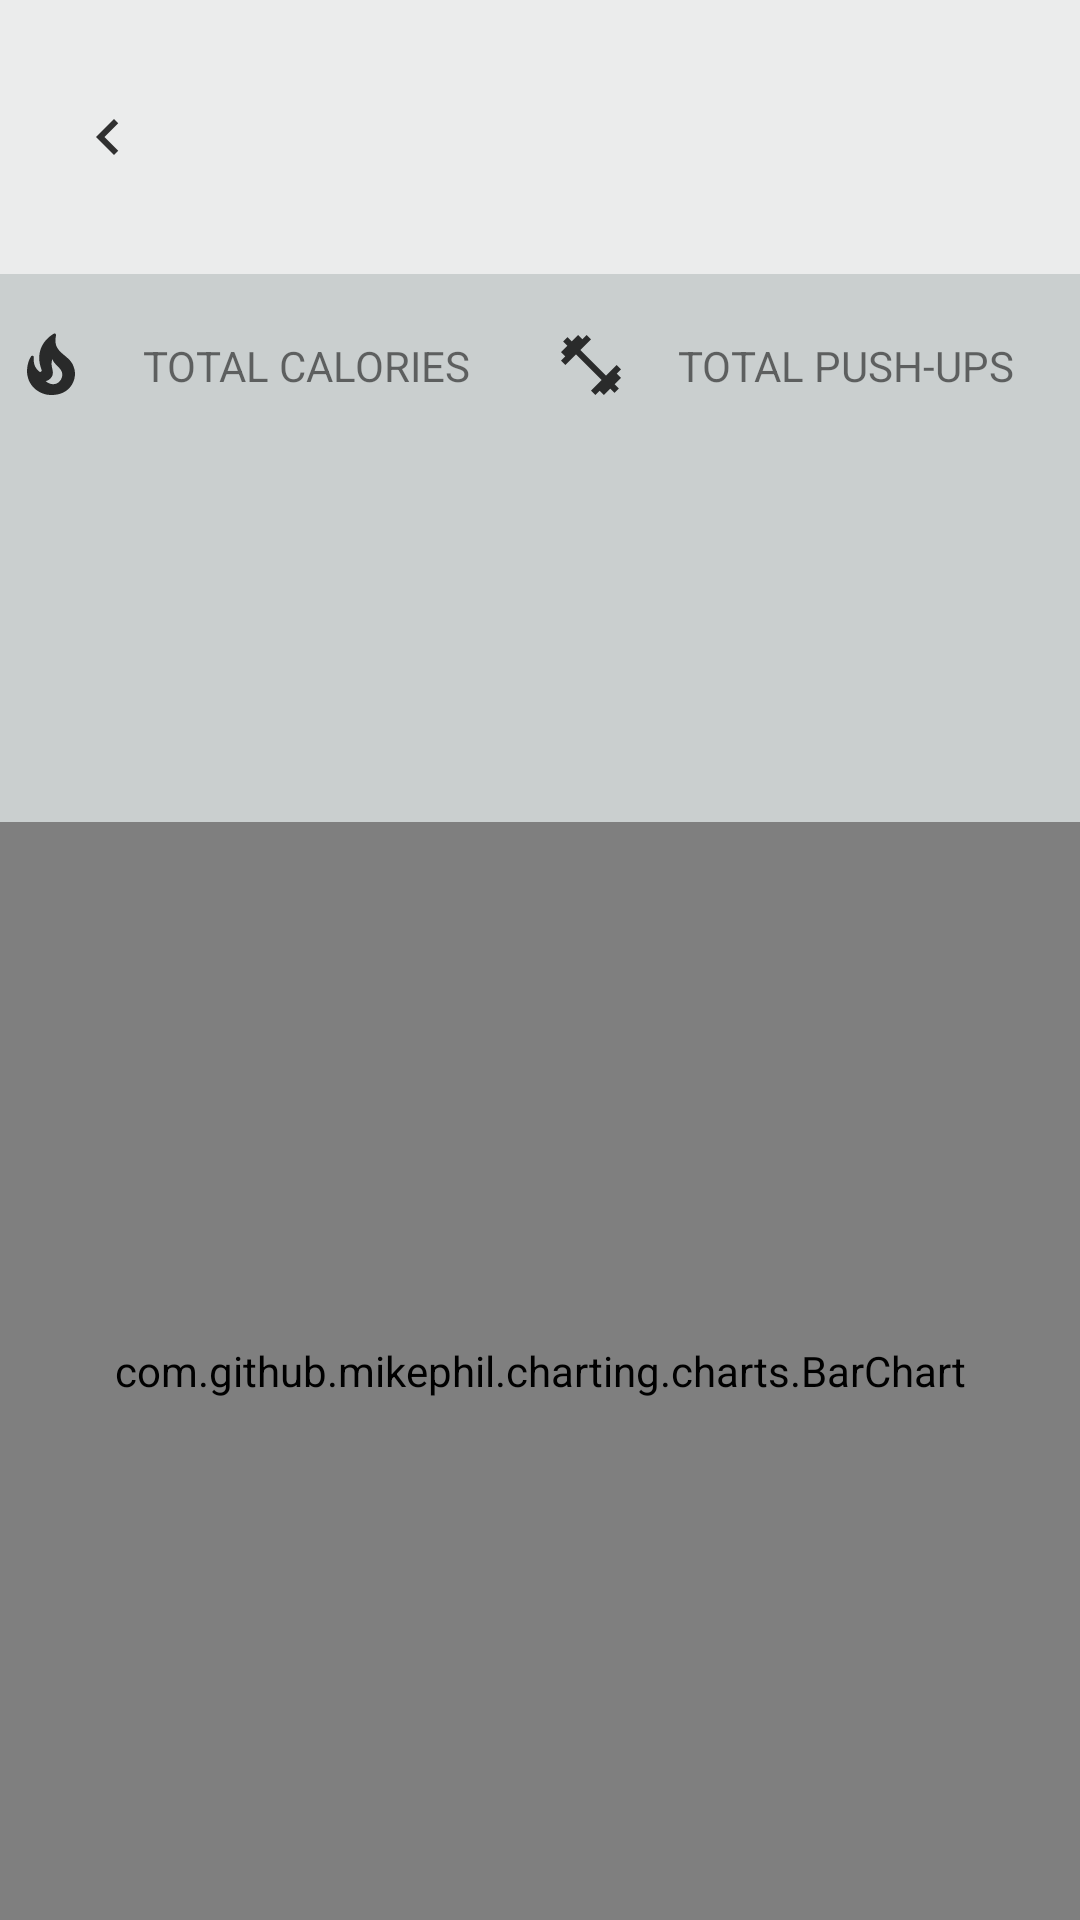

Icons on this 1080x1920 Android screen, each with the point to tap as point (x, y):
Back: point (107, 137)
